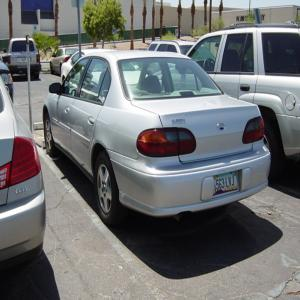Vehicle-registration-plate: (211, 171, 242, 199)
